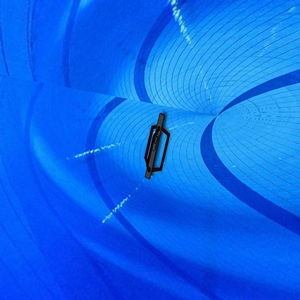submarine: (137, 106, 176, 189)
